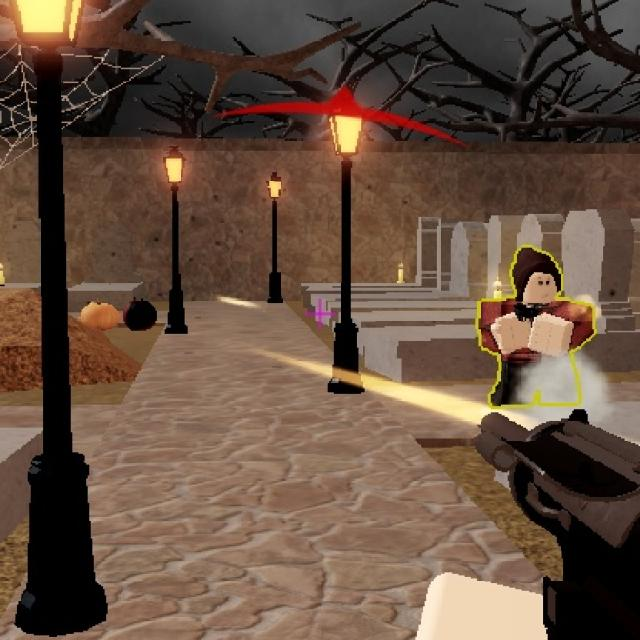player: (474, 245, 602, 411)
